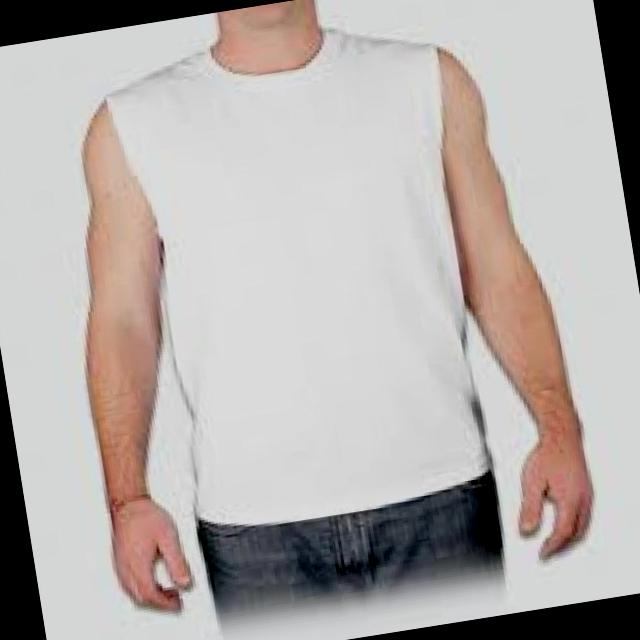no_vest: (99, 9, 504, 540)
